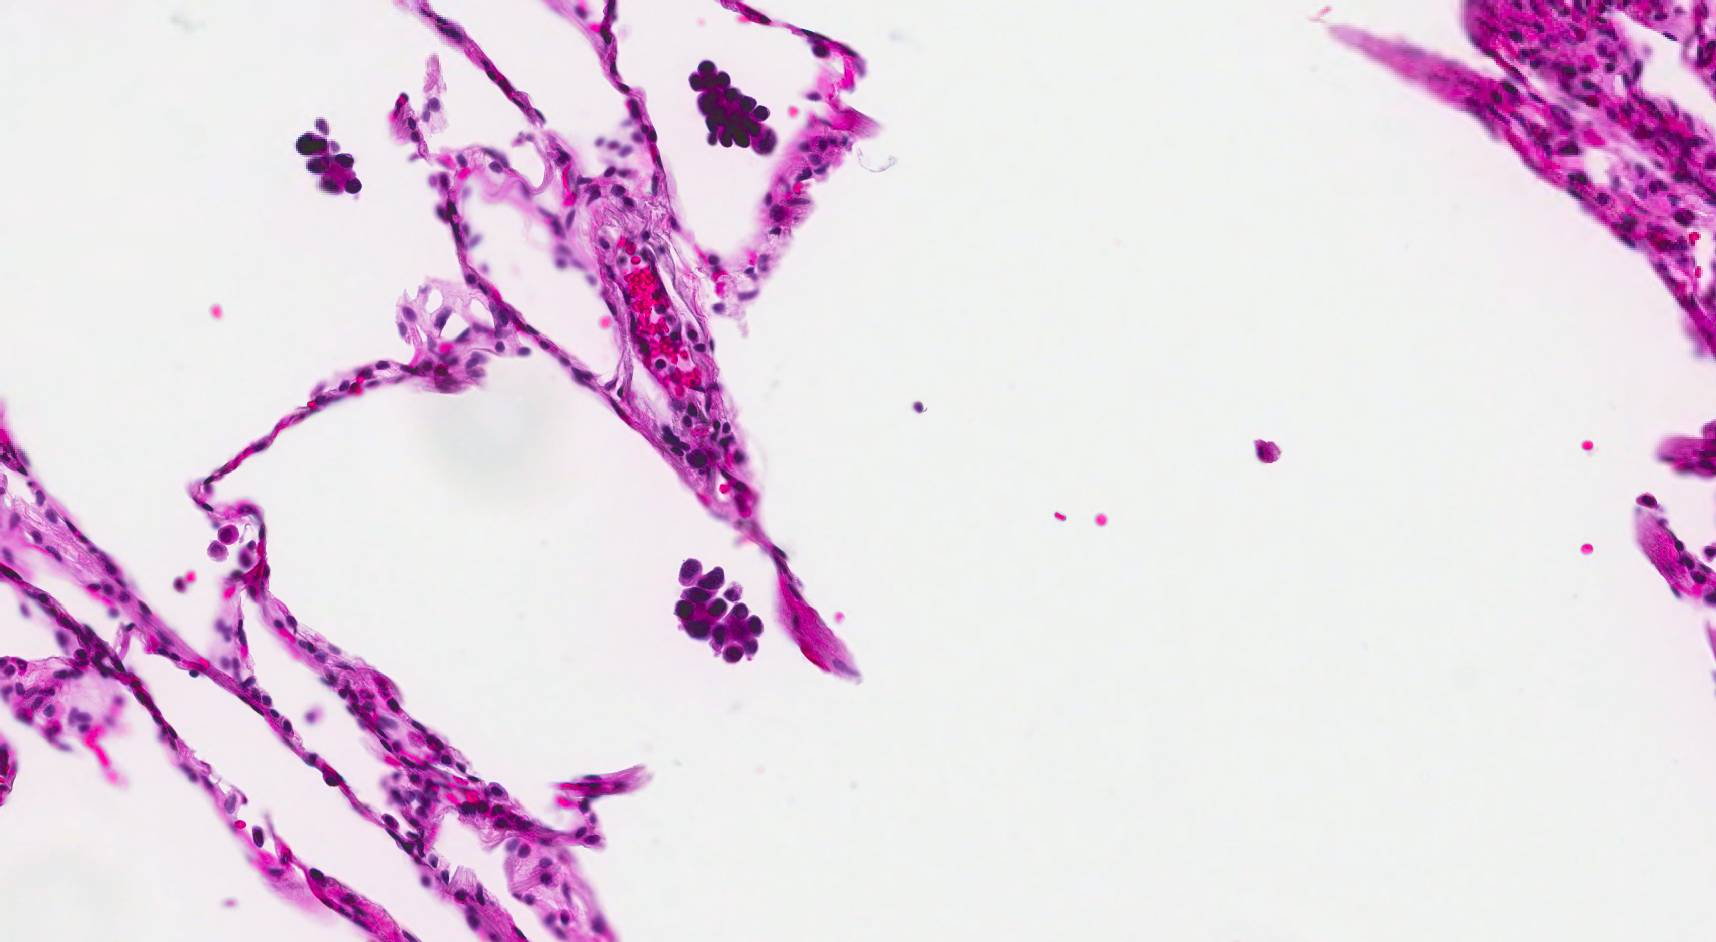stas: (674, 556, 764, 666), (687, 59, 777, 154), (297, 116, 365, 195)
